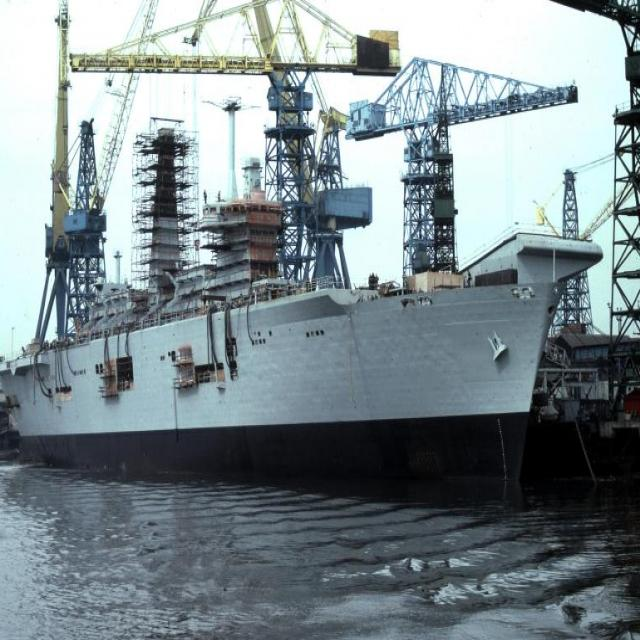Portanaves: (1, 86, 570, 523)
